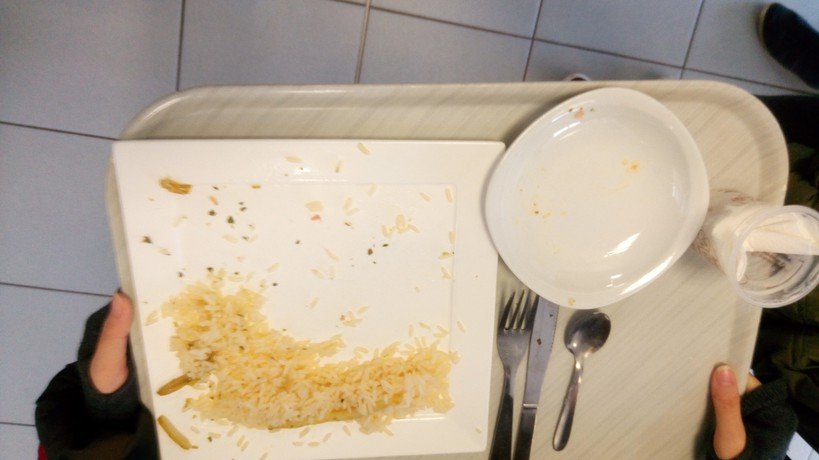orga: (143, 288, 470, 444)
trash: (693, 188, 819, 306)
